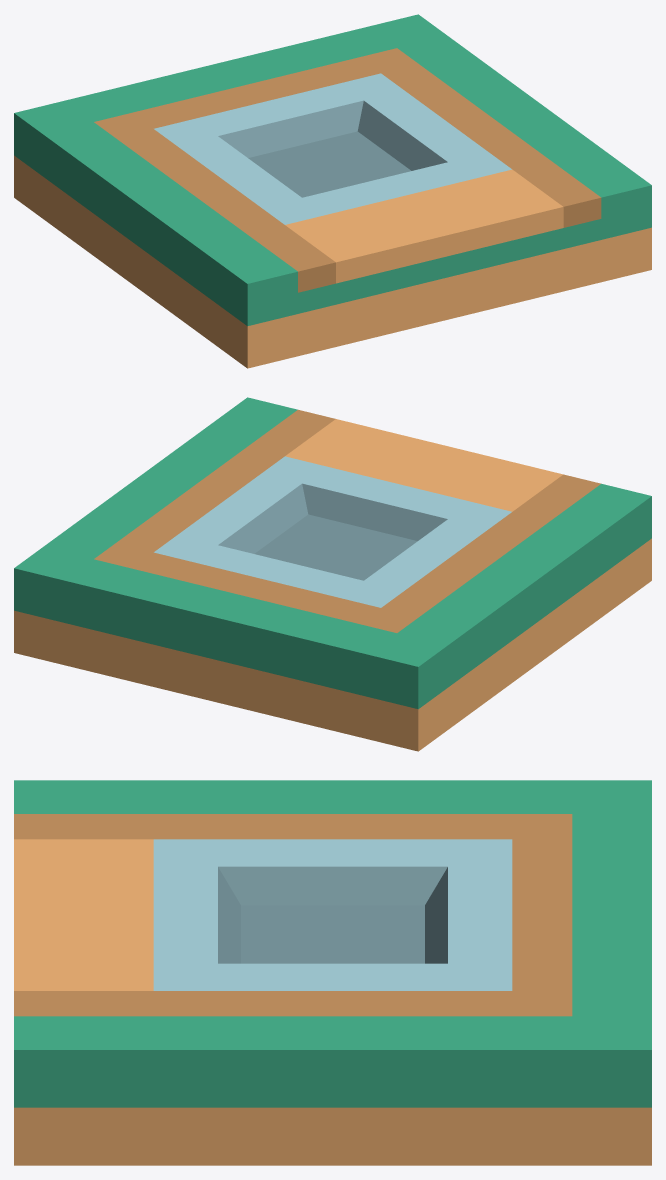
Rendered from tile_endSpawn(+).fbx.
The picture shows the model from 3 angles, top to bottom: view 1: azimuth 30°, elevation 25°; view 2: azimuth 150°, elevation 25°; view 3: azimuth 270°, elevation 25°; orthographic projection. The views are drawn at different scales.
Visible parts, largest first — view 1: Mesh_4; view 2: Mesh_4; view 3: Mesh_4.
Boxes of the visible parts, x1,y1,x2,y2 form: Mesh_4: (14, 14, 651, 368); Mesh_4: (14, 397, 651, 751); Mesh_4: (14, 780, 651, 1165).
Size of the model in its own units: 100 by 20 by 100.
